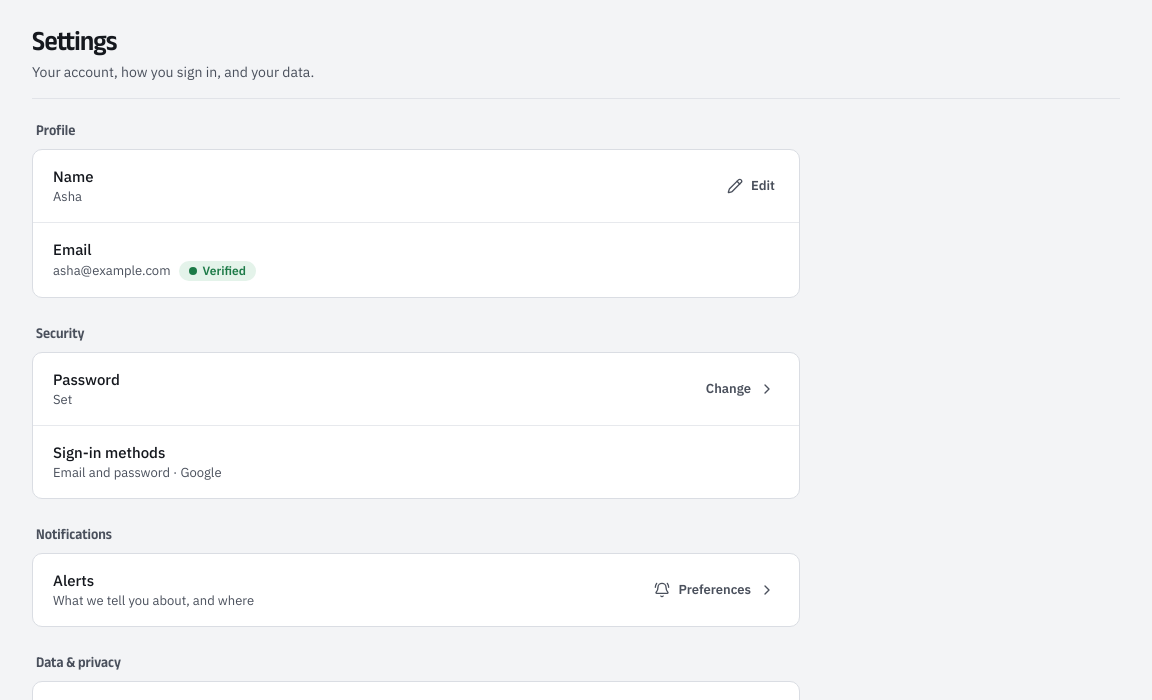
SettingsPage profile › asks for a name rather than sending an empty one
This screenshot has width=1152, height=700.
Click the button "Edit".
click(751, 186)  # box [715,170,787,202]
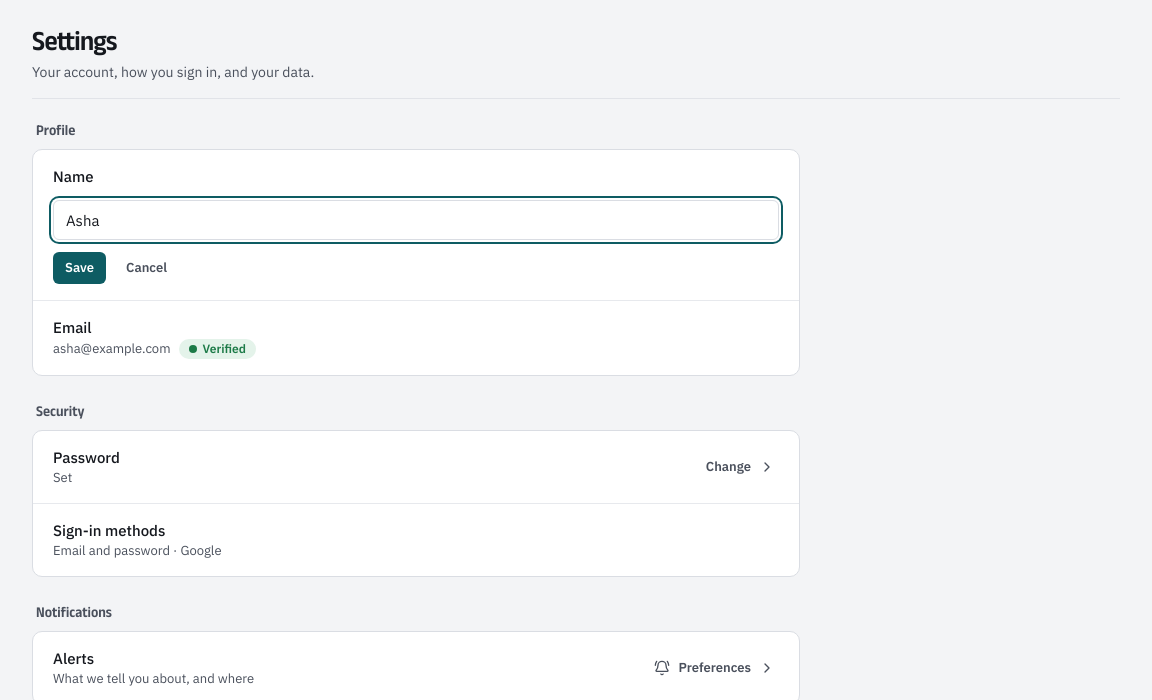
Clear the field labelled "Name" at (416, 220), box [53,200,779,240]
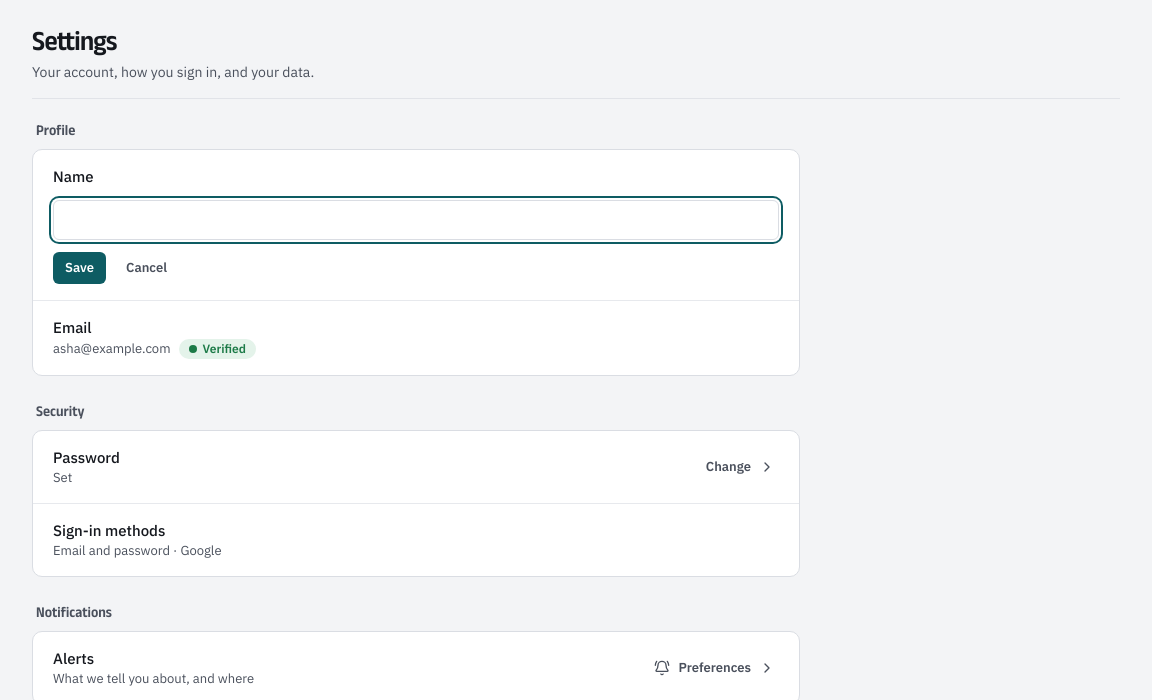
Click the button "Save".
click(80, 268)  # box [53,252,106,284]
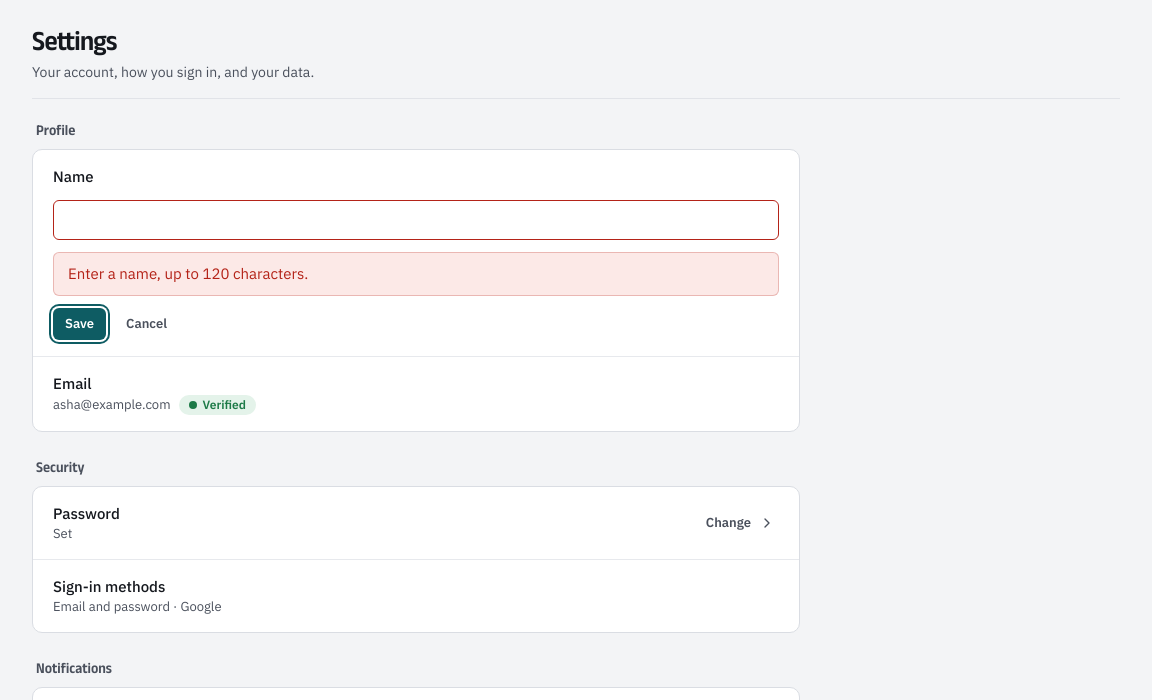
Check: the text "Enter a name, up to 120 characters." is shown, box [53,252,779,296]
